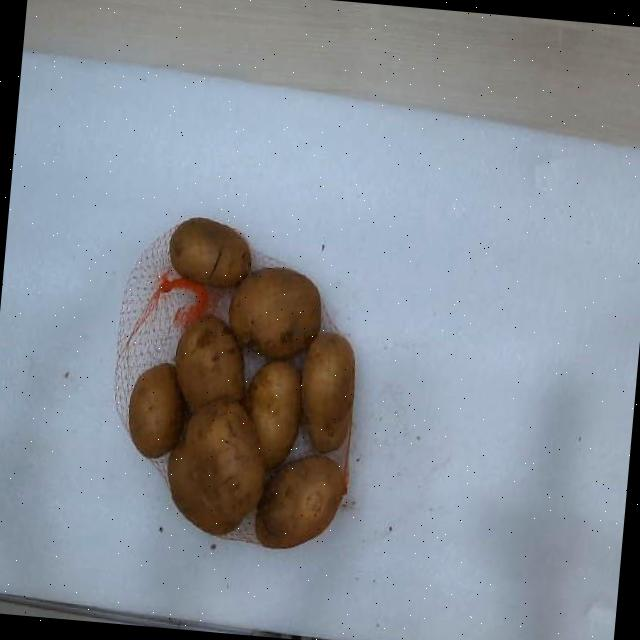potato: (167, 400, 264, 533), (229, 267, 320, 358), (255, 456, 344, 547), (176, 315, 243, 411), (301, 332, 354, 452), (246, 361, 300, 467), (170, 217, 251, 286), (128, 363, 185, 457)
